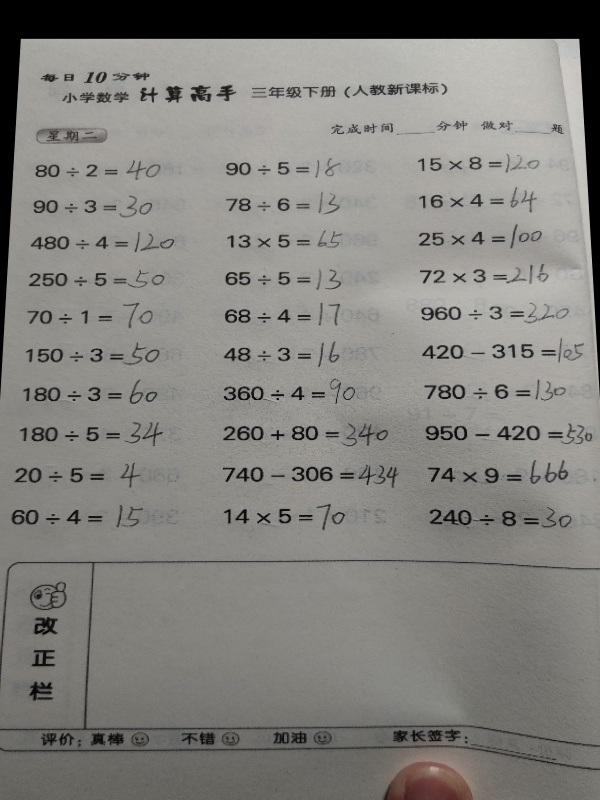equation: (220, 458, 406, 493), (421, 415, 599, 449), (418, 333, 588, 367), (210, 334, 366, 371), (9, 499, 159, 537), (218, 419, 396, 451), (426, 499, 579, 535), (12, 418, 176, 450), (220, 378, 364, 414), (221, 502, 359, 538), (22, 338, 174, 370), (23, 302, 174, 334), (422, 459, 579, 488), (418, 299, 574, 328), (22, 379, 169, 409), (420, 376, 571, 404), (416, 221, 547, 252), (12, 460, 151, 489), (27, 229, 181, 255), (414, 181, 540, 212), (29, 192, 157, 221), (222, 189, 344, 219), (25, 267, 169, 292), (221, 265, 345, 294), (221, 300, 344, 329), (417, 263, 552, 289), (32, 157, 165, 183), (415, 150, 544, 176), (224, 226, 347, 252), (221, 156, 343, 182)
